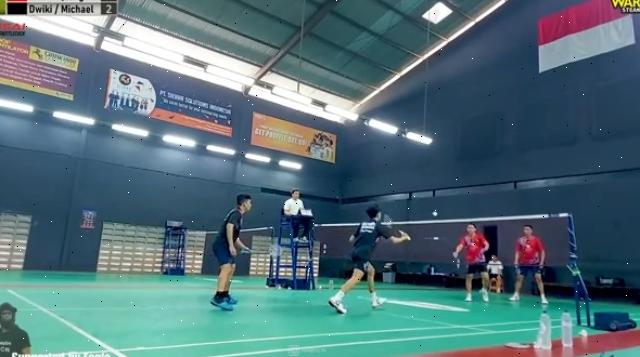Shuttlecock: (432, 212, 440, 218)
